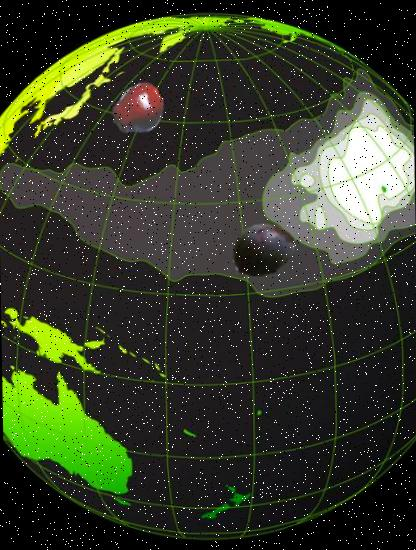Apple: (110, 80, 166, 138)
Plum: (230, 215, 297, 282)
